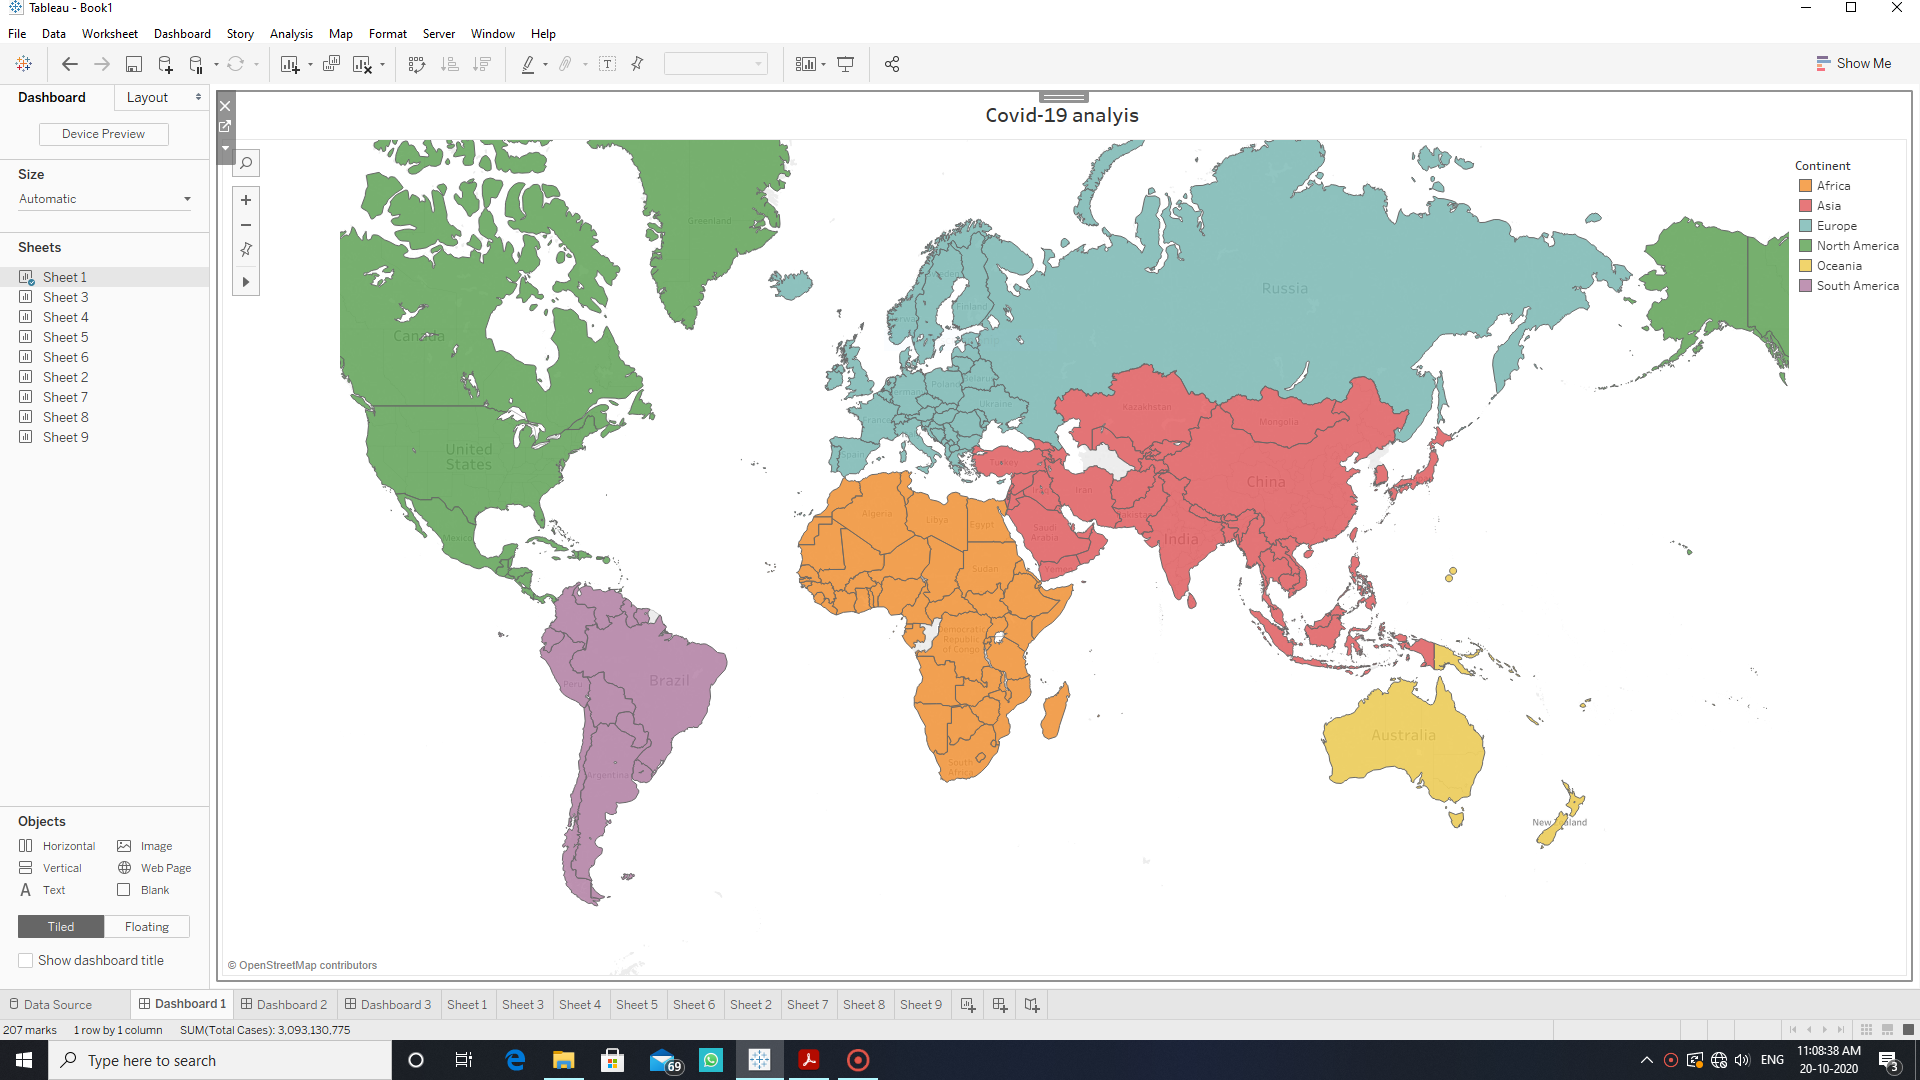

What the dashboard file says about the page in this screenshot:
{"tool":"tableau","page":{"name":"Dashboard 1","canvas":[1000,1000],"units":"permille","ordinal":0},"visuals":[{"type":"worksheet","title":"Sheet 1","mark":"Multipolygon","box":[4.7,8.8,990.6,982.3]},{"type":"legend","title":"Sheet 1","param":"[federated.0rg6w2816wwmrw1f0ro5t1tcpfjo].[none:continent:nk]","box":[925.1,76.3,69,183.6]}]}

Visuals, with their boxes on the dashboard's canvas, which has no fixed pixel size, in thousandths of its width and height (x1, y1, x2, y2). These are canvas units, not pixel positions in the 1920x1080 screenshot, which may show the page scaled, cropped or inside an application window:
"Sheet 1" worksheet (Multipolygon marks): box=[5, 9, 995, 991]
"Sheet 1" legend: box=[925, 76, 994, 260]
